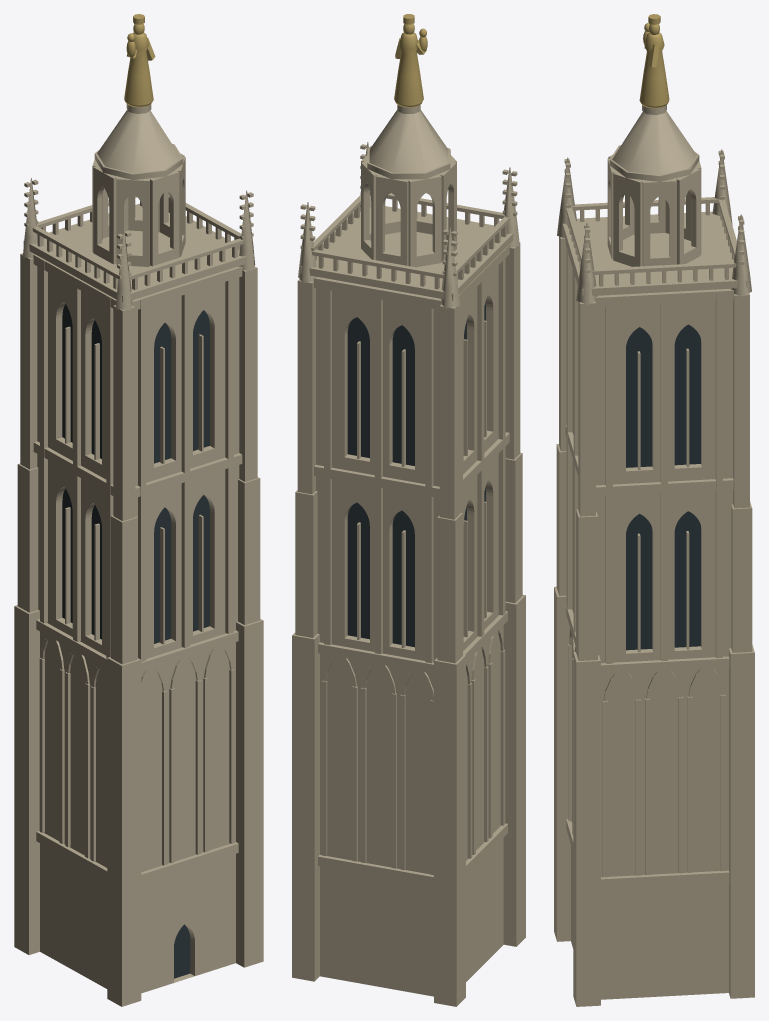
The model's file is tour-pey-berland-near.glb.
3 views of the same model, side by side, from view 1: azimuth 30°, elevation 25°; view 2: azimuth 150°, elevation 25°; view 3: azimuth 270°, elevation 25° (orthographic).
Parts seen in each view (by area): view 1: tour-pey-berland-0-plaster, tour-pey-berland-0-shadow, tour-pey-berland-0-gold; view 2: tour-pey-berland-0-plaster, tour-pey-berland-0-shadow, tour-pey-berland-0-gold; view 3: tour-pey-berland-0-plaster, tour-pey-berland-0-shadow, tour-pey-berland-0-gold.
Boxes of the visible parts, x1,y1,x2,y2 form: tour-pey-berland-0-plaster: [14, 104, 263, 1006]; tour-pey-berland-0-shadow: [62, 304, 209, 978]; tour-pey-berland-0-gold: [124, 14, 155, 107]; tour-pey-berland-0-plaster: [292, 105, 525, 1006]; tour-pey-berland-0-shadow: [347, 302, 485, 647]; tour-pey-berland-0-gold: [394, 14, 427, 107]; tour-pey-berland-0-plaster: [554, 105, 754, 1006]; tour-pey-berland-0-shadow: [626, 324, 700, 650]; tour-pey-berland-0-gold: [639, 14, 669, 108].
Size of the model in its own units: 12.68 by 66 by 12.68.
